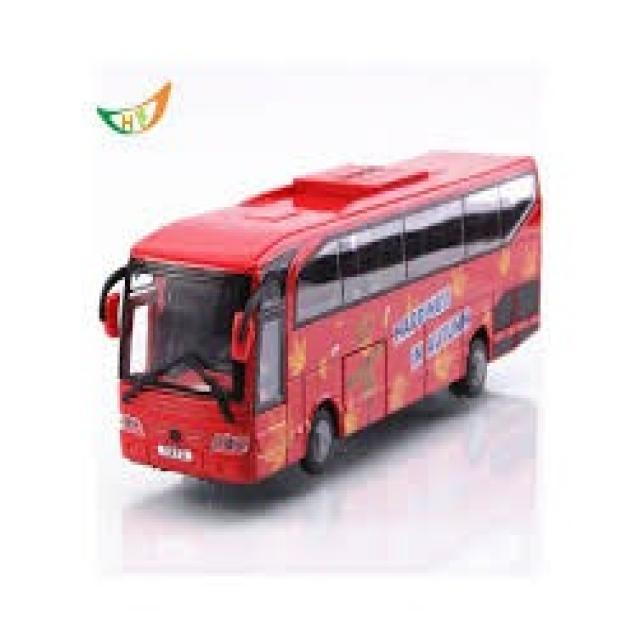bus: (101, 125, 569, 512)
